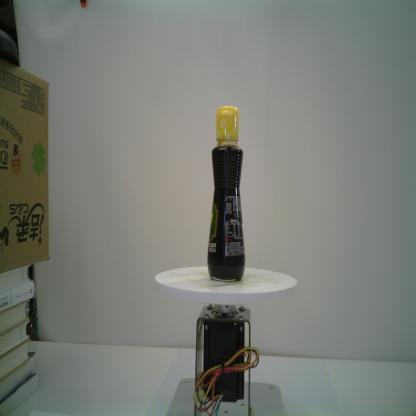Seasoner: (207, 106, 246, 282)
